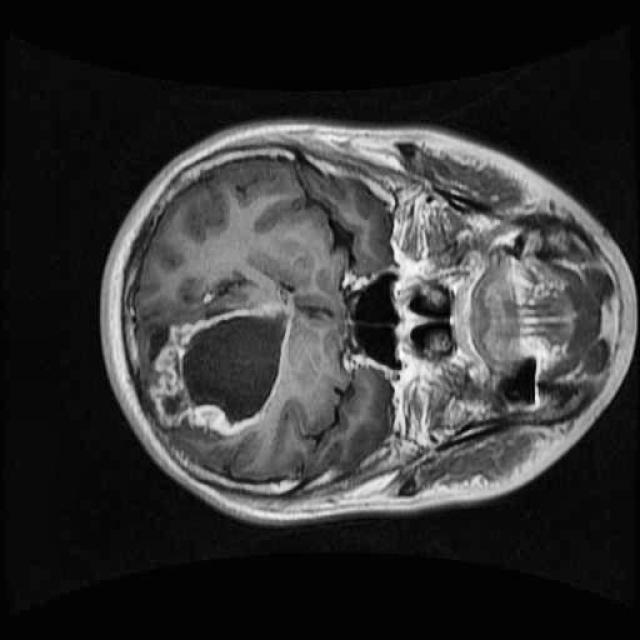Tumor: (142, 292, 302, 444)
